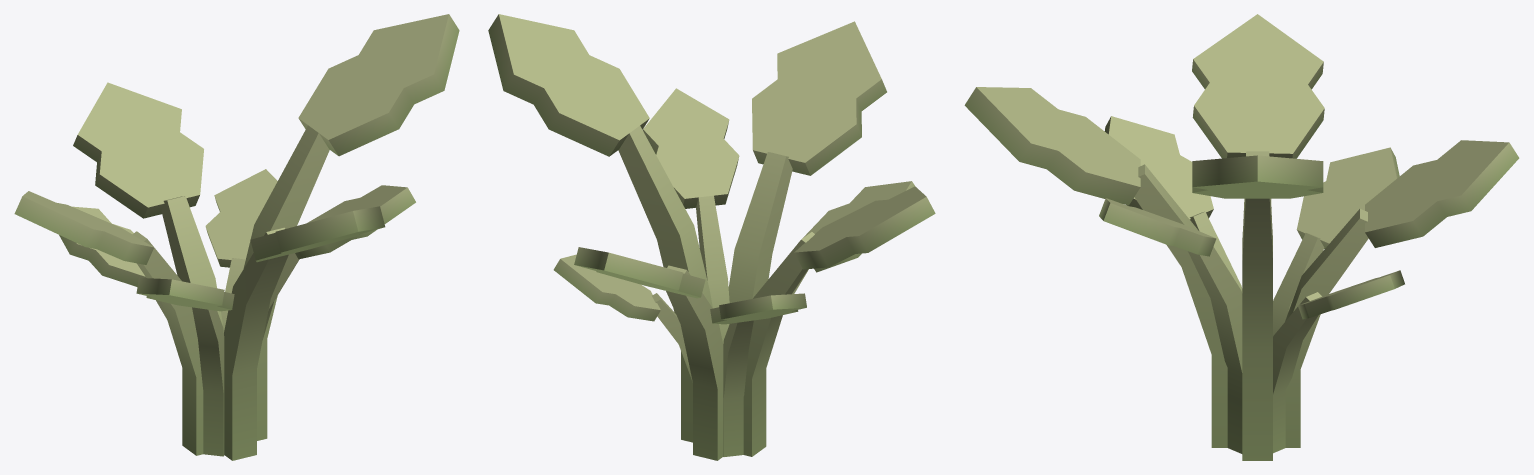
Rendered from plant-separate-type-e.glb.
3 views of the same model, side by side, from view 1: azimuth 30°, elevation 25°; view 2: azimuth 150°, elevation 25°; view 3: azimuth 270°, elevation 25° (orthographic). The views are drawn at different scales.
Parts seen in each view (by area): view 1: plant-separate-type-e; view 2: plant-separate-type-e; view 3: plant-separate-type-e.
Boxes of the visible parts, x1,y1,x2,y2 form: plant-separate-type-e: [14, 14, 459, 460]; plant-separate-type-e: [488, 14, 935, 460]; plant-separate-type-e: [964, 14, 1519, 460].
Size of the model in its own units: 0.6401 by 0.5124 by 0.6354.
